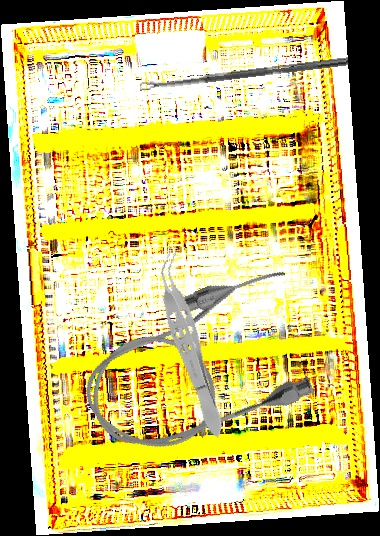Cannula: (64, 257, 331, 475)
Surgical Spoon: (139, 56, 349, 91)
Tissue Forceps: (146, 247, 234, 442)
